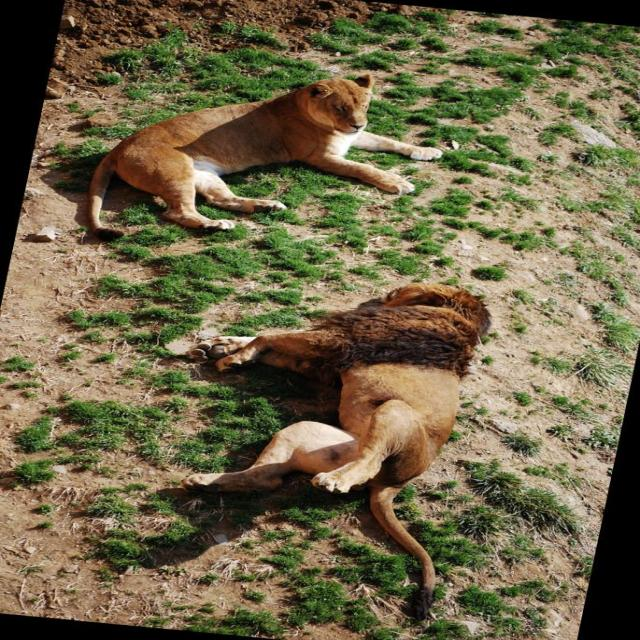Lion: (133, 260, 497, 622), (76, 49, 458, 266)
